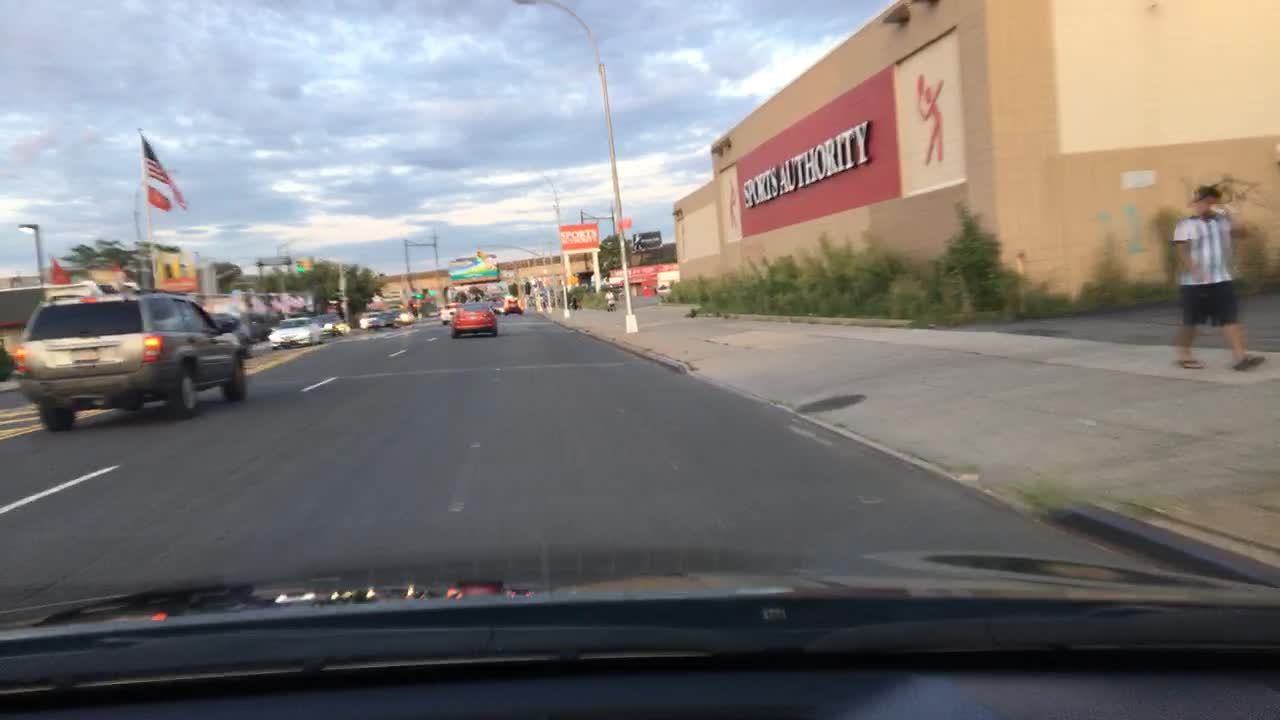bike: (601, 301, 615, 311)
car: (9, 294, 247, 430), (209, 309, 252, 357), (449, 302, 499, 337), (268, 318, 325, 347), (0, 343, 21, 382), (319, 310, 348, 333), (360, 313, 389, 331), (390, 304, 414, 325), (439, 302, 459, 323), (501, 297, 525, 314)
person: (1169, 185, 1267, 381)
rider: (604, 290, 614, 302)
traffic sign: (561, 274, 577, 285)
